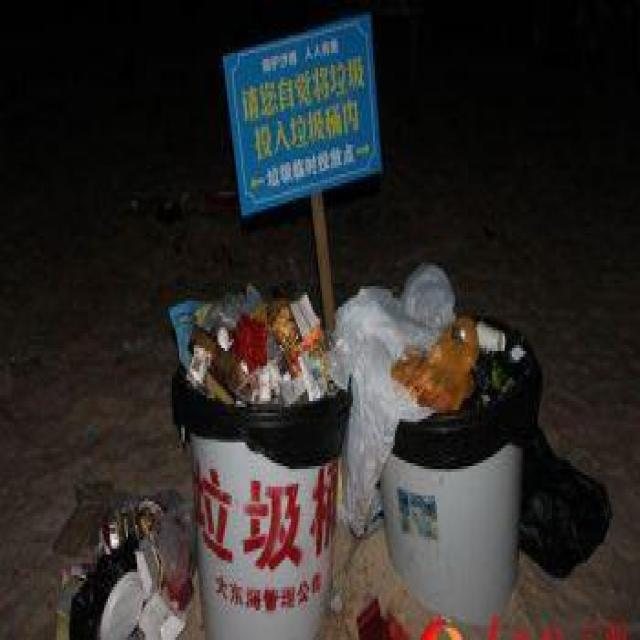garbage: (49, 478, 198, 637)
overflow: (342, 262, 609, 614), (166, 280, 351, 637)
